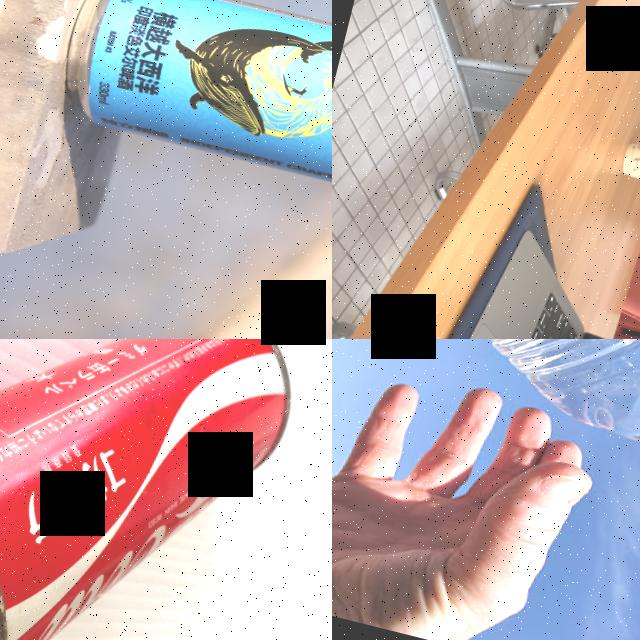bottle: (332, 339, 640, 488)
can: (0, 339, 314, 640), (49, 0, 332, 219)
cup: (615, 127, 640, 193)
